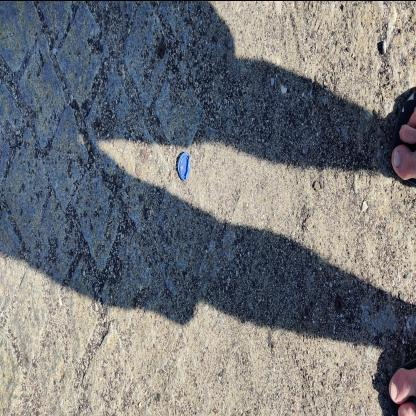plastik: (178, 152, 192, 183)
